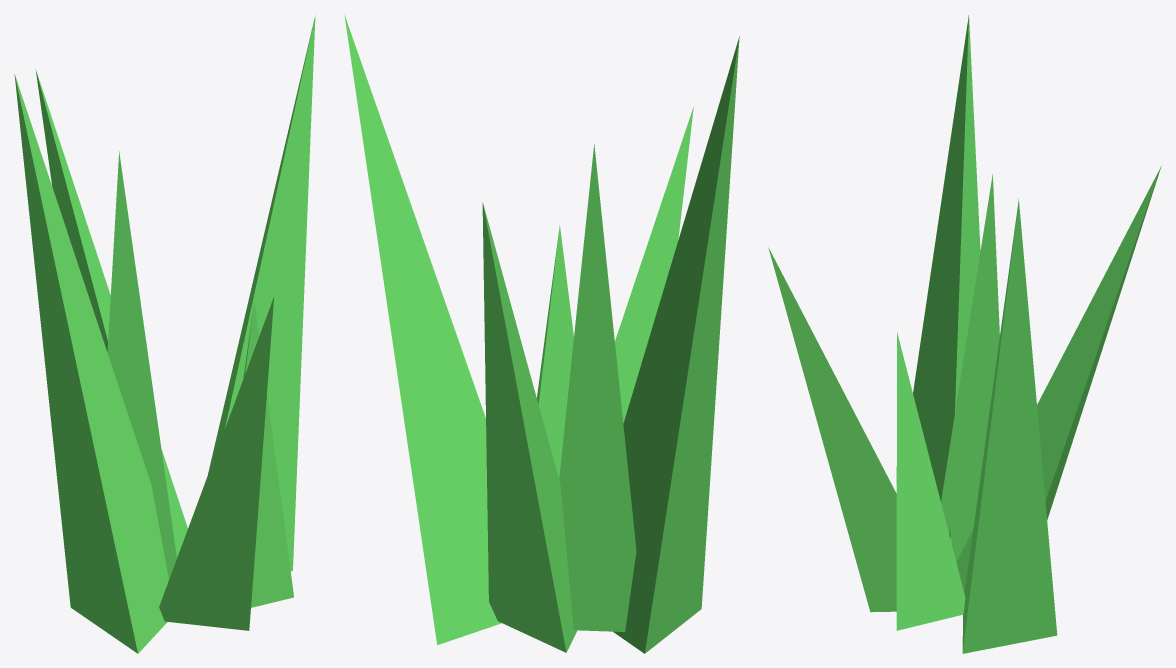
The model's file is SmallGrass.fbx.
3 views of the same model, side by side, from view 1: azimuth 30°, elevation 25°; view 2: azimuth 150°, elevation 25°; view 3: azimuth 270°, elevation 25° (orthographic). The views are drawn at different scales.
Parts seen in each view (by area): view 1: Cone; view 2: Cone; view 3: Cone.
Part boxes in pixels (bbox=[...]): Cone: bbox=[14, 14, 315, 653]; Cone: bbox=[344, 14, 739, 653]; Cone: bbox=[768, 15, 1161, 653].
Size of the model in its own units: 1.44 by 2.38 by 1.63.
